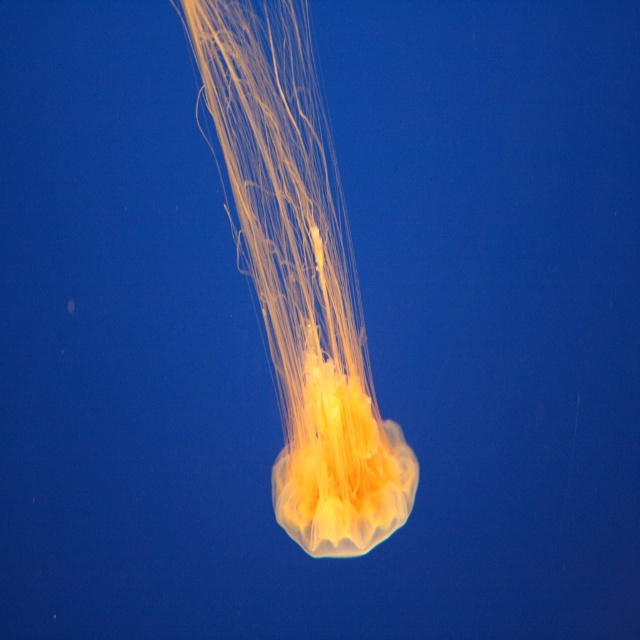Jellyfish: (151, 17, 434, 584)
